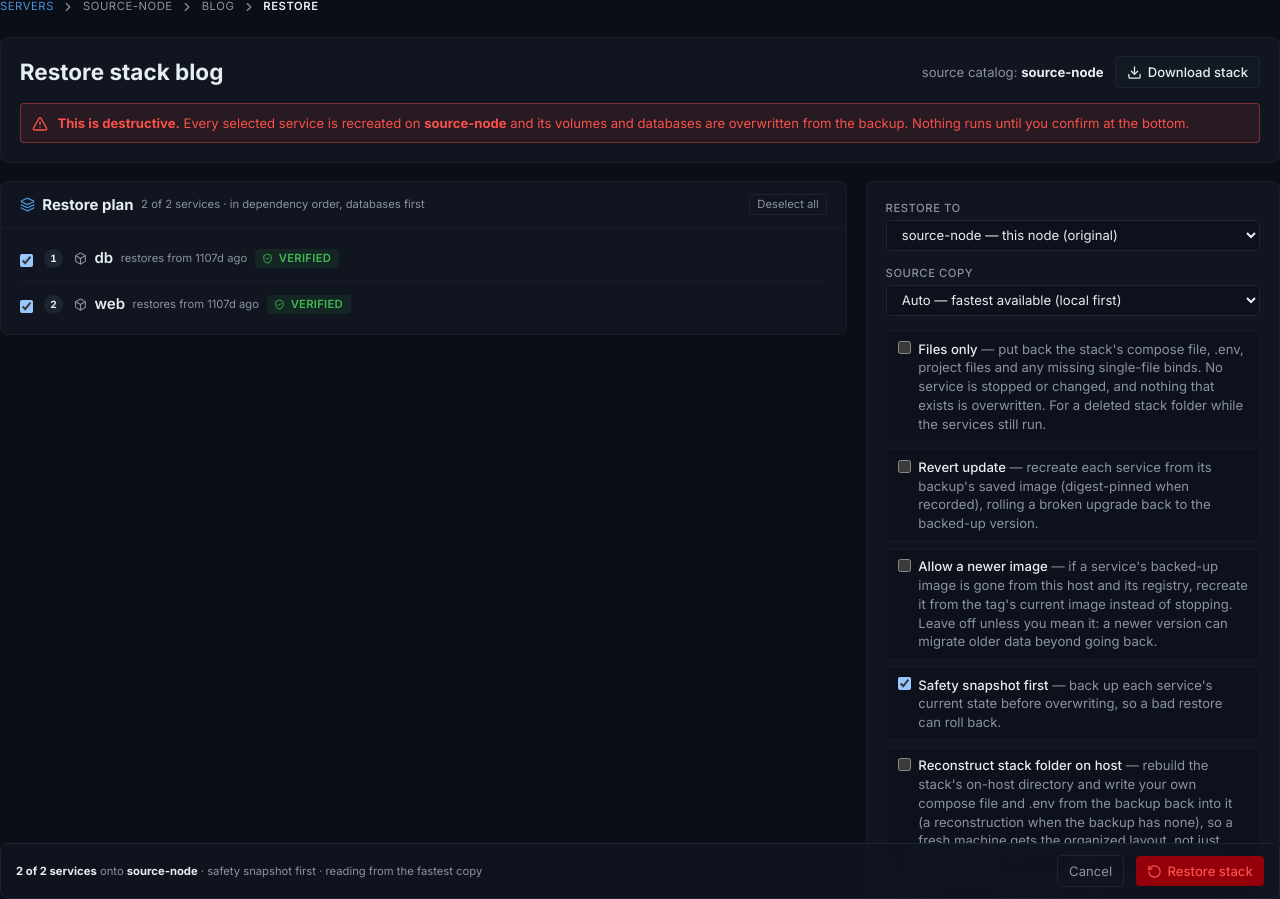
Scenario: StackRestore submits what the operator reviewed › withdraws the password prompt when the selection changes, and returns it when changed back
What coordinates should you click on to do the following:
click the button "Restore stack"
I would click on:
 (1200, 871)
Its box is [1136, 856, 1264, 886].
Wait 301 ms
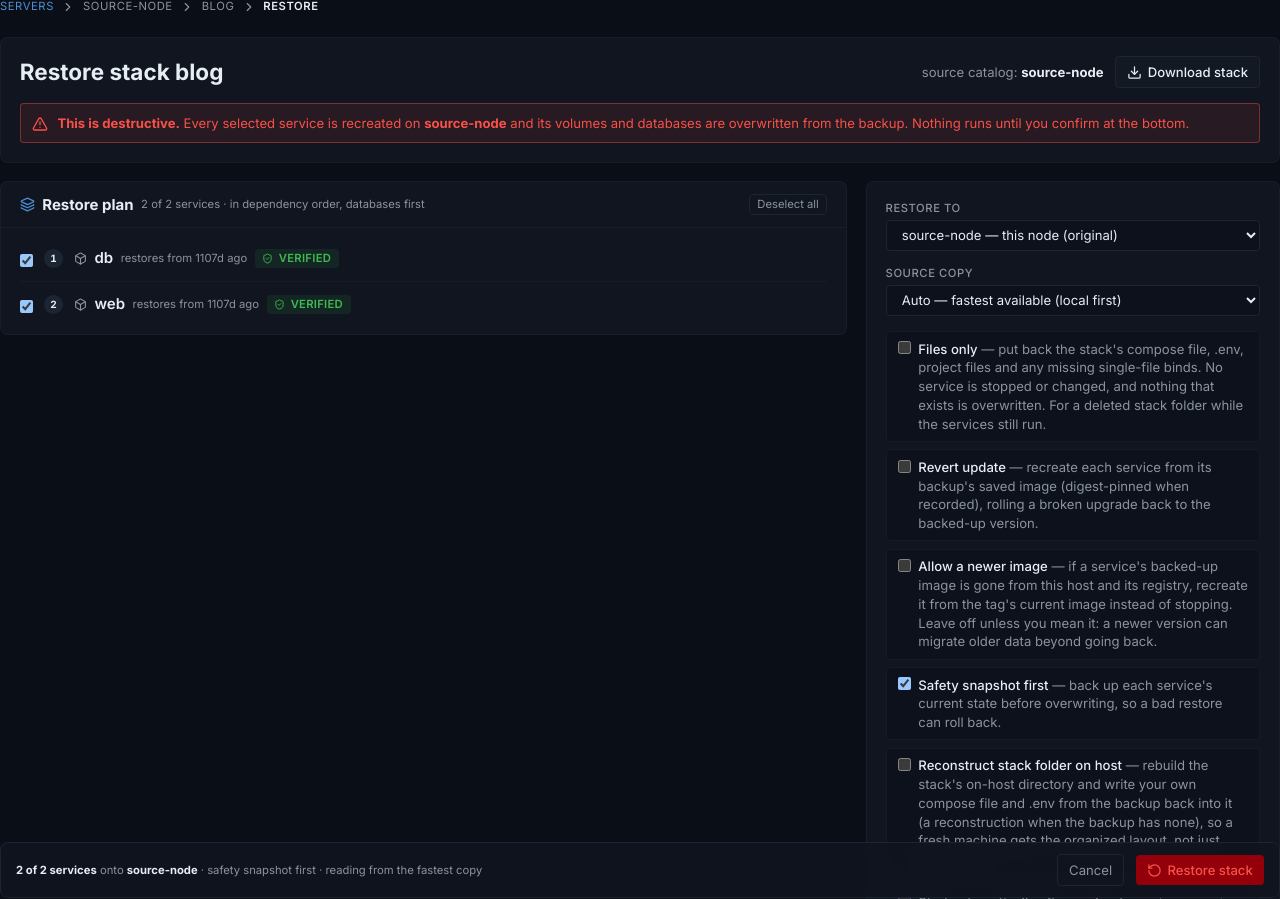
What coordinates should you click on to do the following:
click the checkbox named "Restore web"
I would click on:
 (26, 306)
Its box is [20, 297, 33, 316].
Wait 301 ms
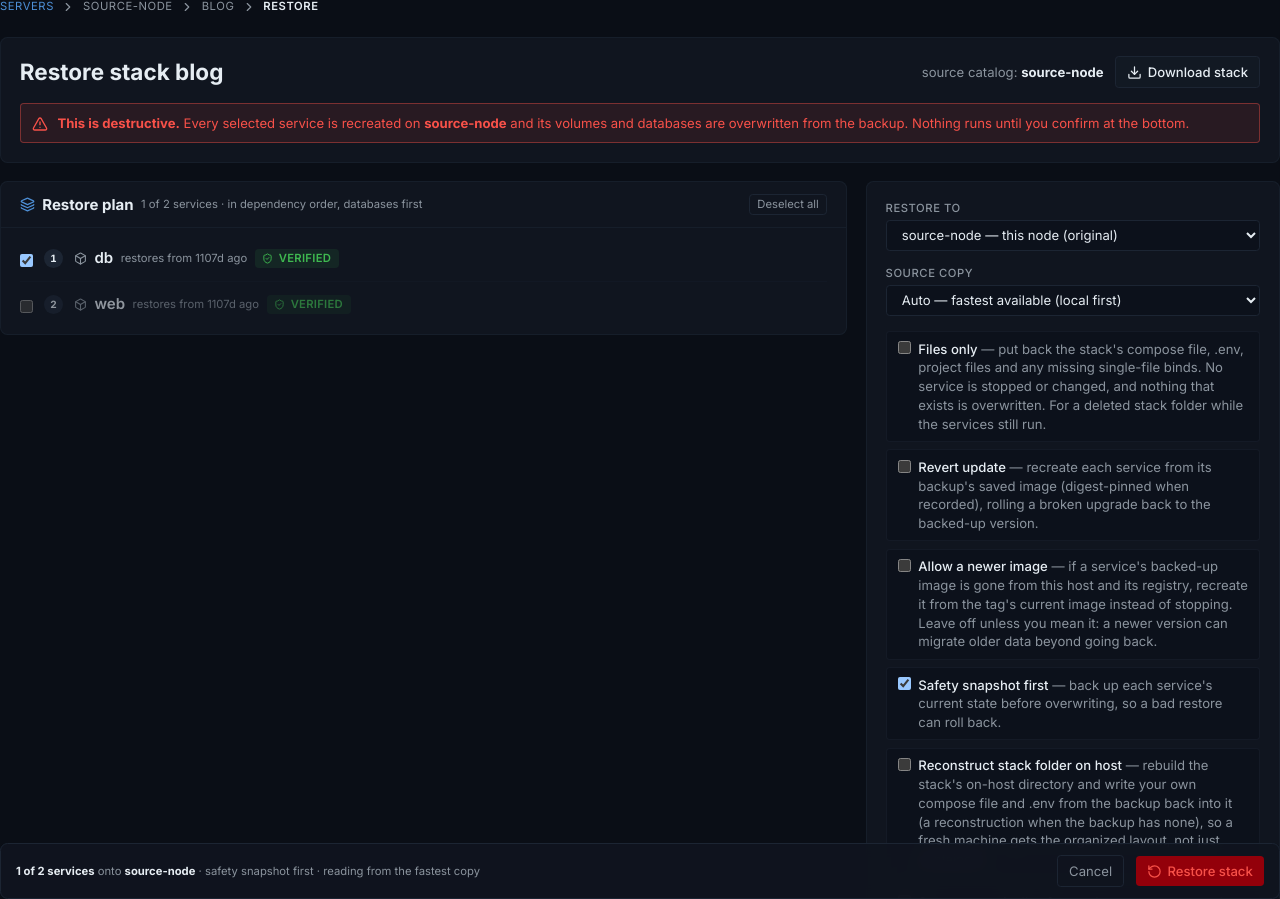
What coordinates should you click on to do the following:
click the checkbox named "Restore web"
I would click on:
 (26, 306)
Its box is [20, 297, 33, 316].
Wait 301 ms
(page scrolled)
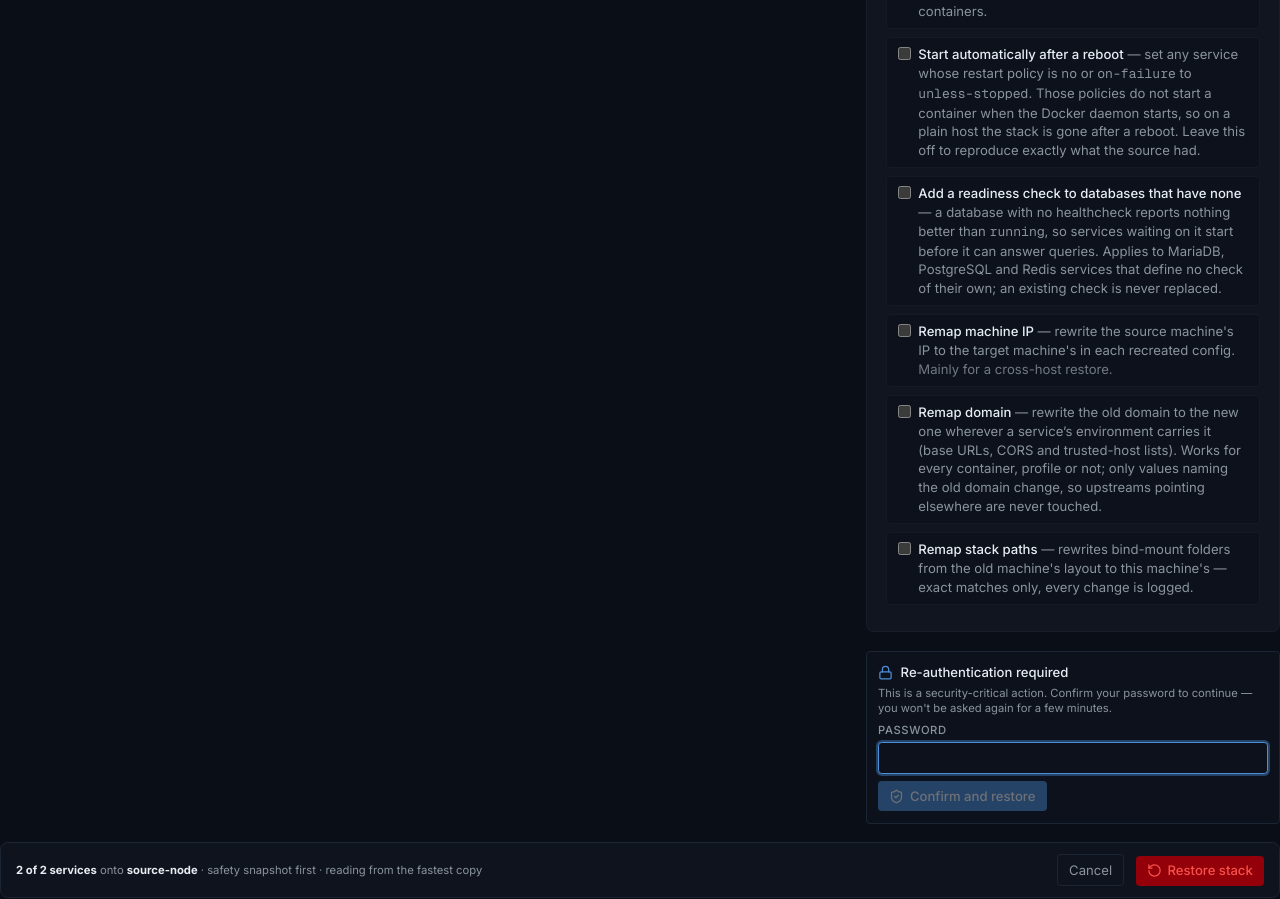
Result: the password field labelled "Password" is shown at [878, 742, 1268, 774]
